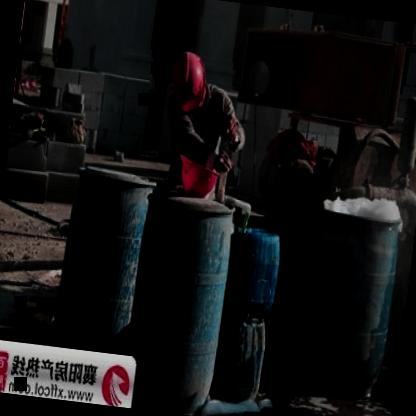helmet: (162, 46, 214, 118)
